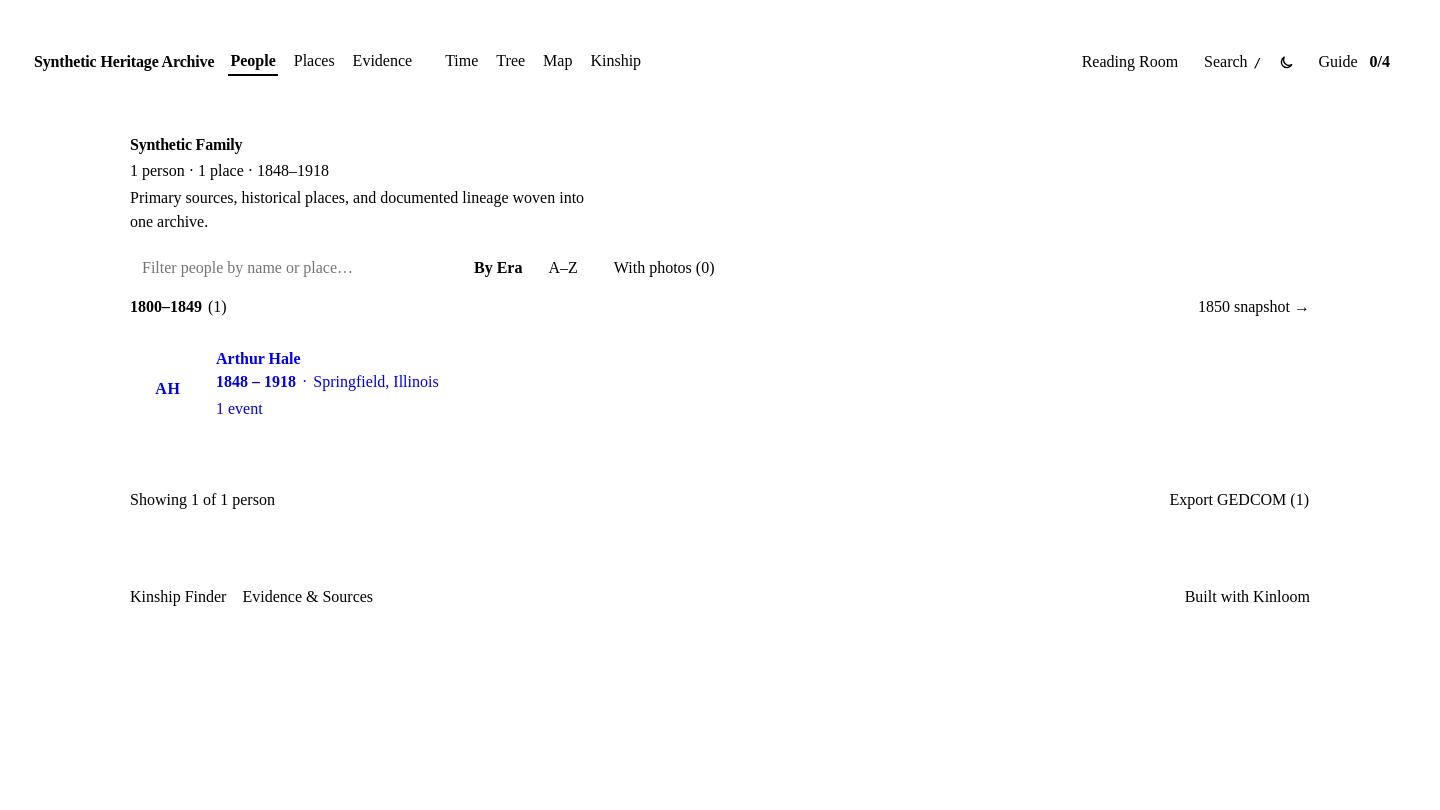
Scenario: OnboardingChecklistCard, Guide menu, persistence, and contextual empty states › renders viewer checklist, persists dismissal in localStorage, reopens via Guide menu, opens shortcuts/guide dialogs, and resets progress
This screenshot has width=1440, height=810.
Earlier steps of the test are not shown.
Later steps or results of the test are not shown.
Click the button "Guide 0/4": (1357, 62) [1308,53,1406,71]
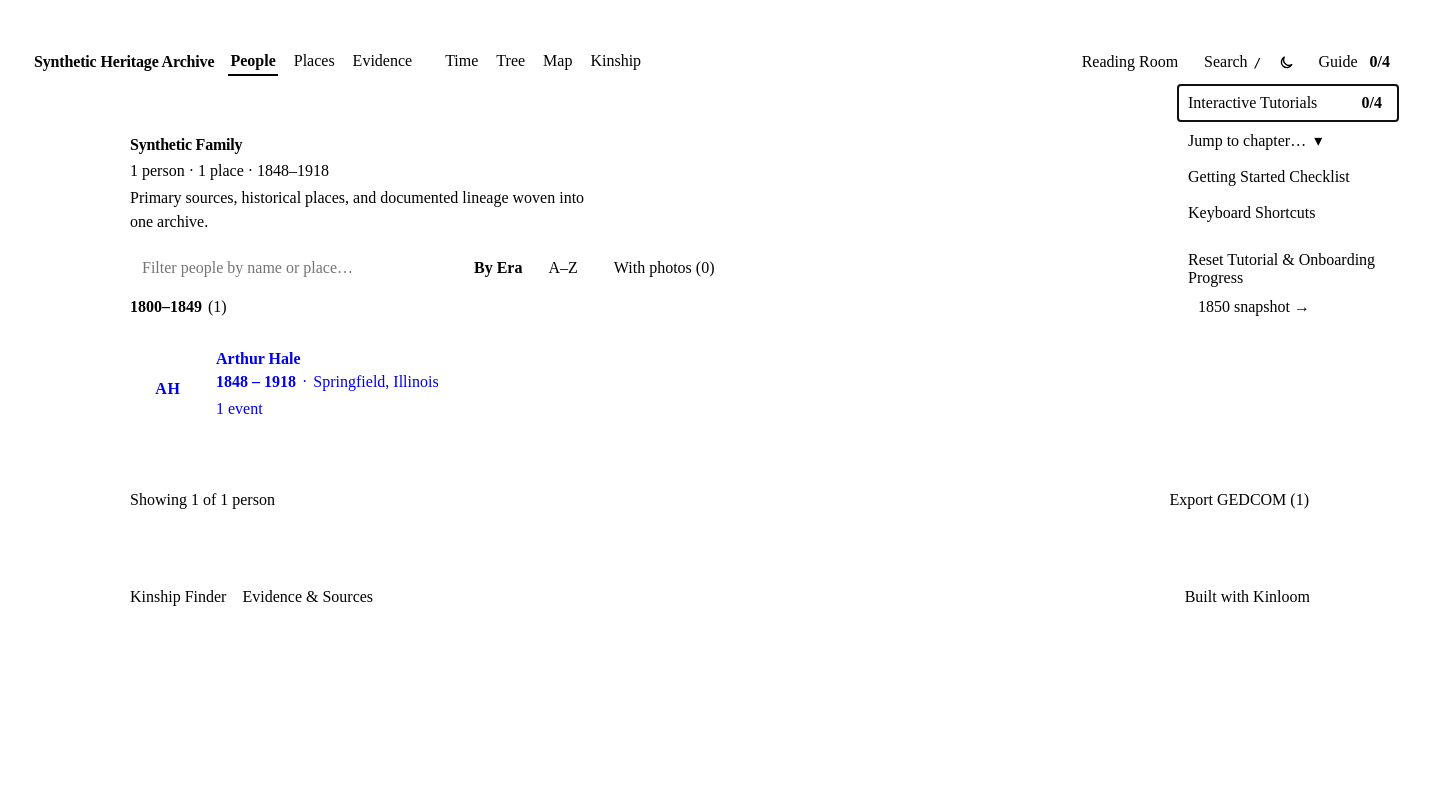
Click the menu item "Getting Started Checklist": (1288, 177) [1178,160,1398,194]
(page scrolled)
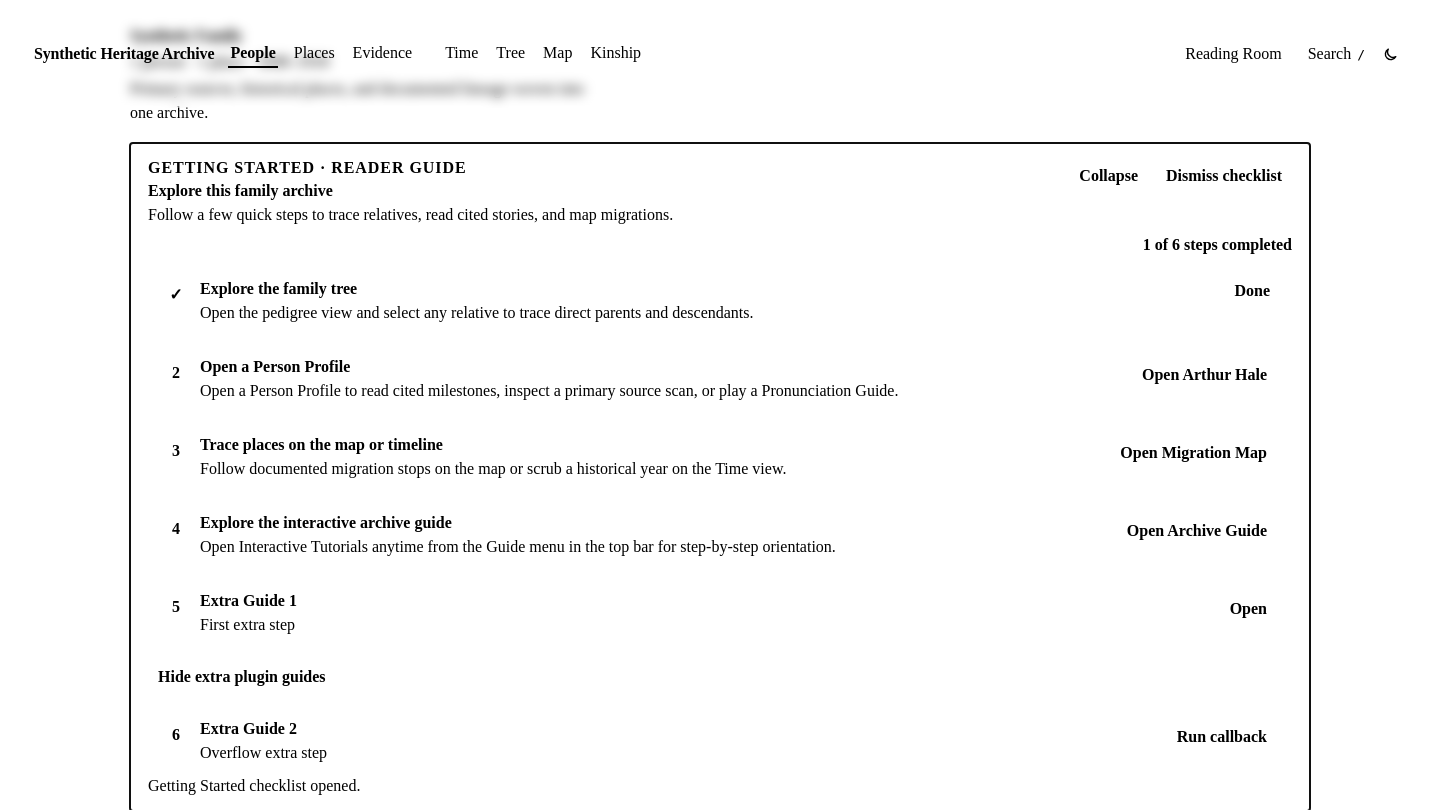
Result: the element with test id "onboarding-checklist-card" shows "Explore this family archive" at [148,182,333,199]
Click the button "Dismiss checklist": (1224, 176) [1156,159,1292,193]
(page scrolled)
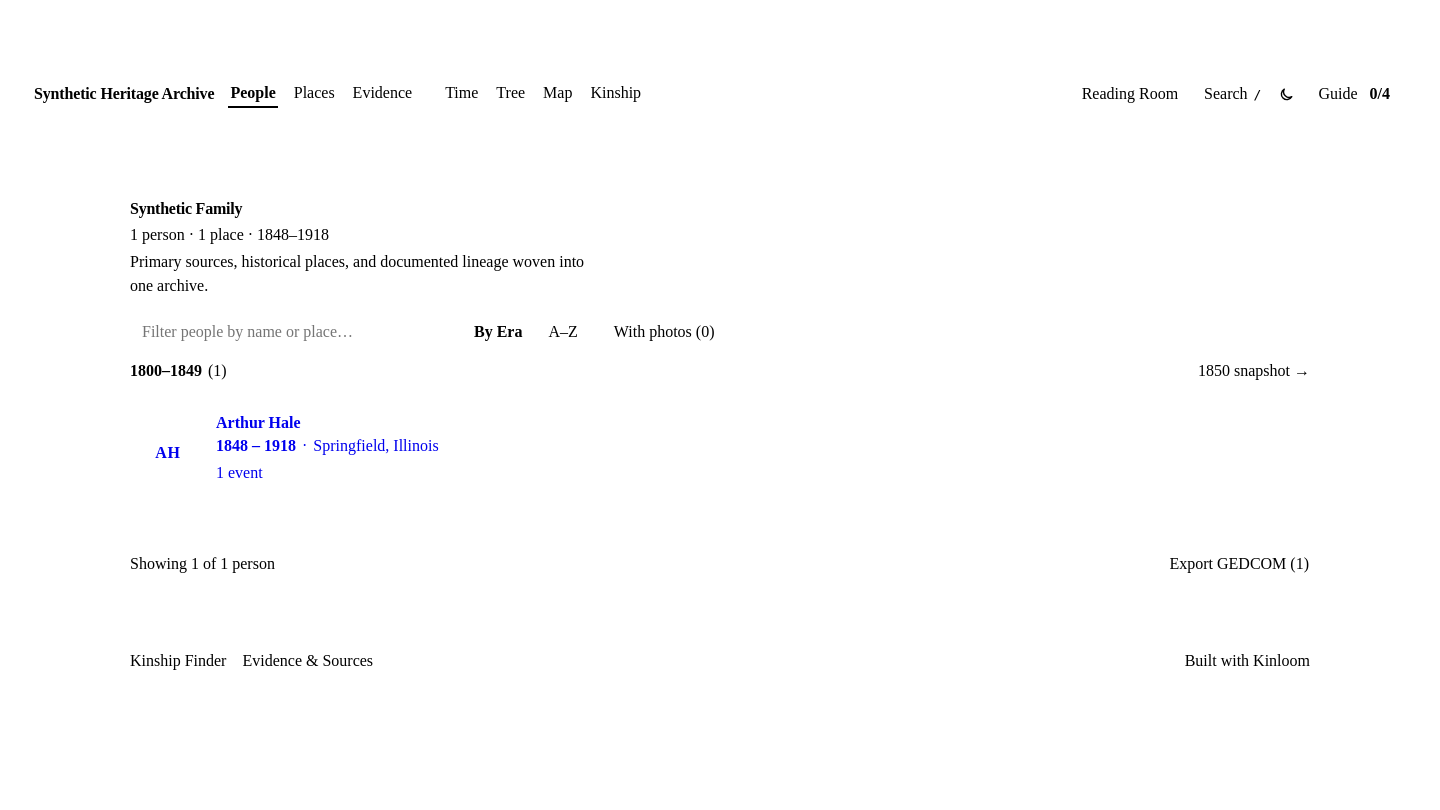
Result: the element with test id "onboarding-checklist-card" is gone
Result: the button "Guide 0/4" is shown
Click the button "Guide 0/4": (1357, 94) [1308,85,1406,103]
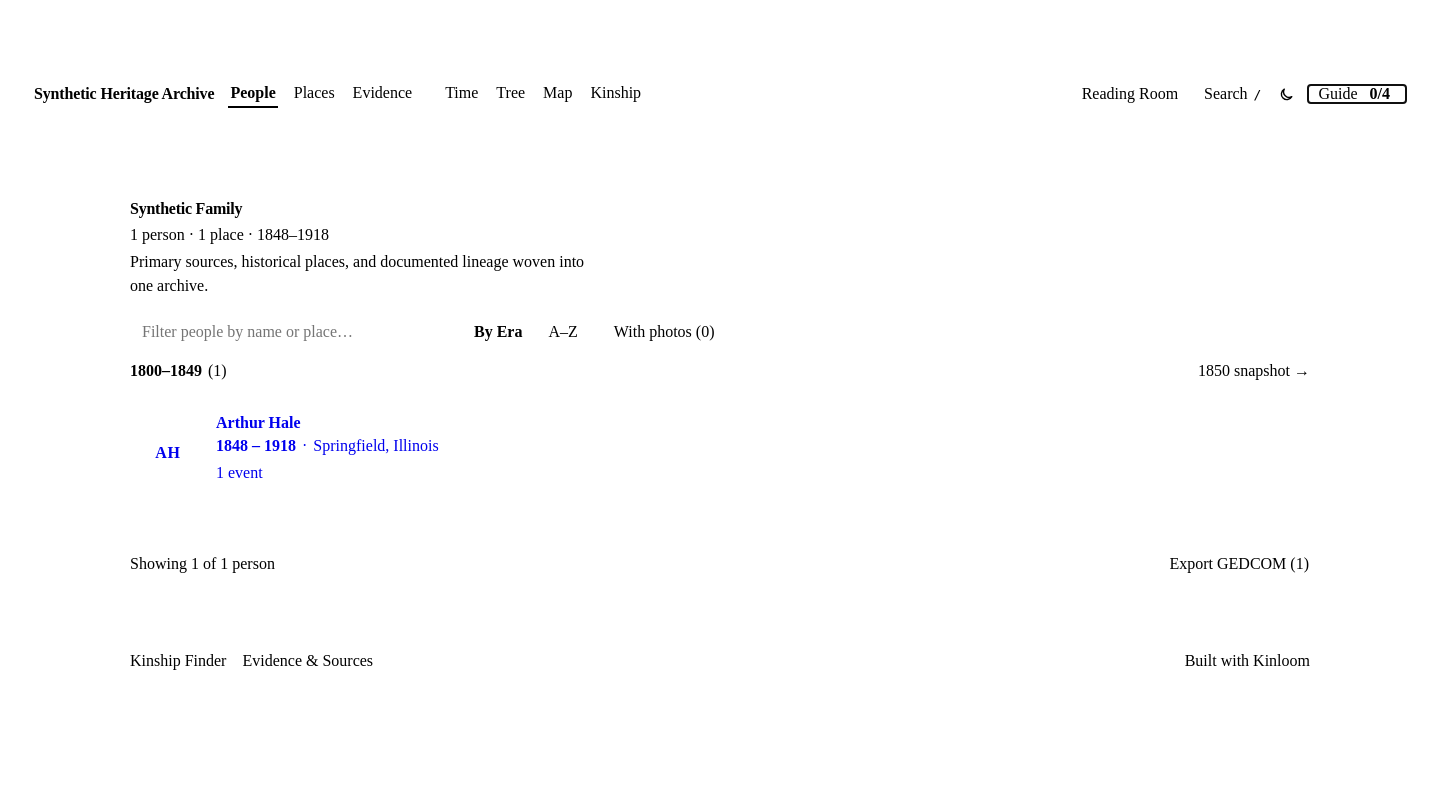
Click the button "Guide 0/4": (1357, 94) [1308,85,1406,103]
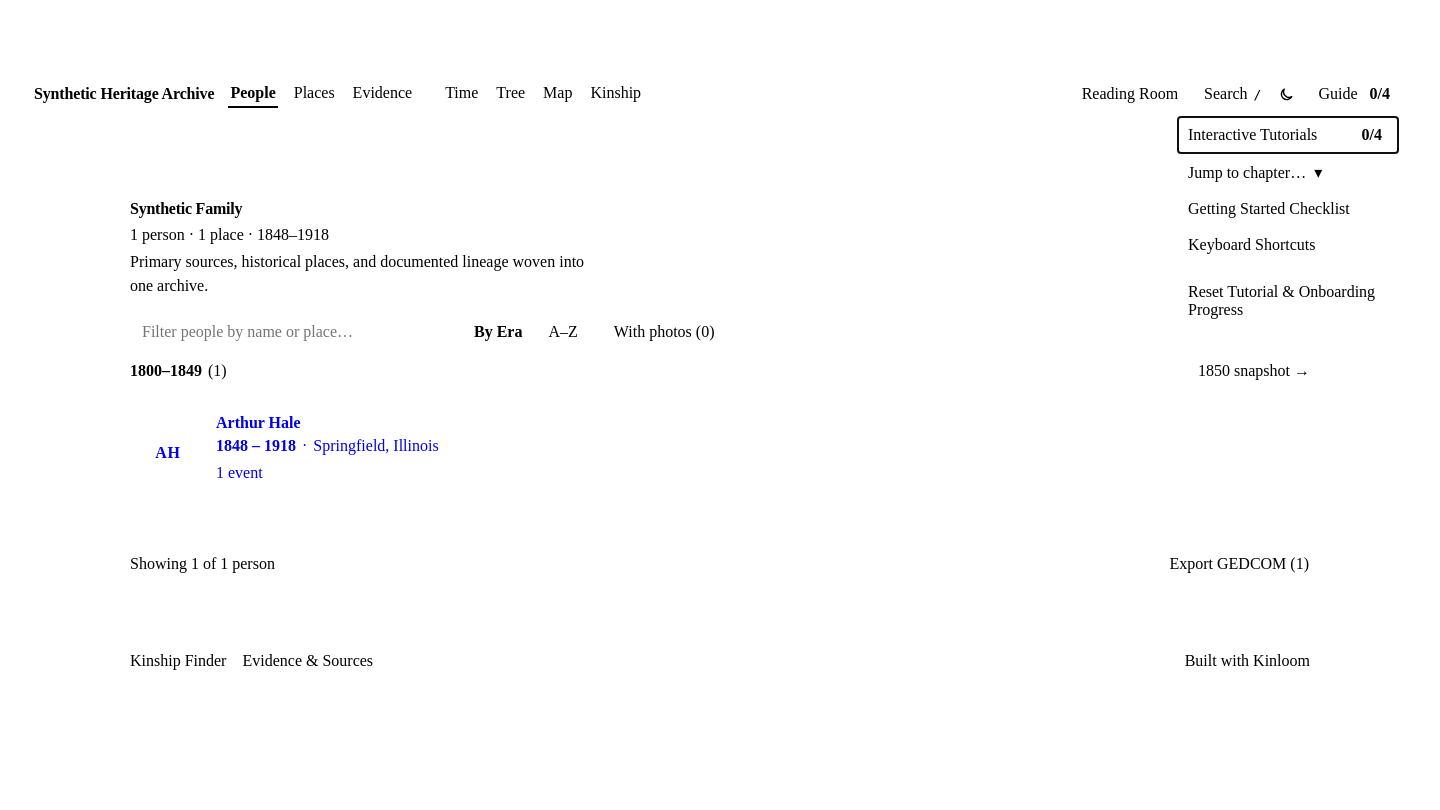
Click the menu item "Getting Started Checklist": (1288, 209) [1178,192,1398,226]
(page scrolled)
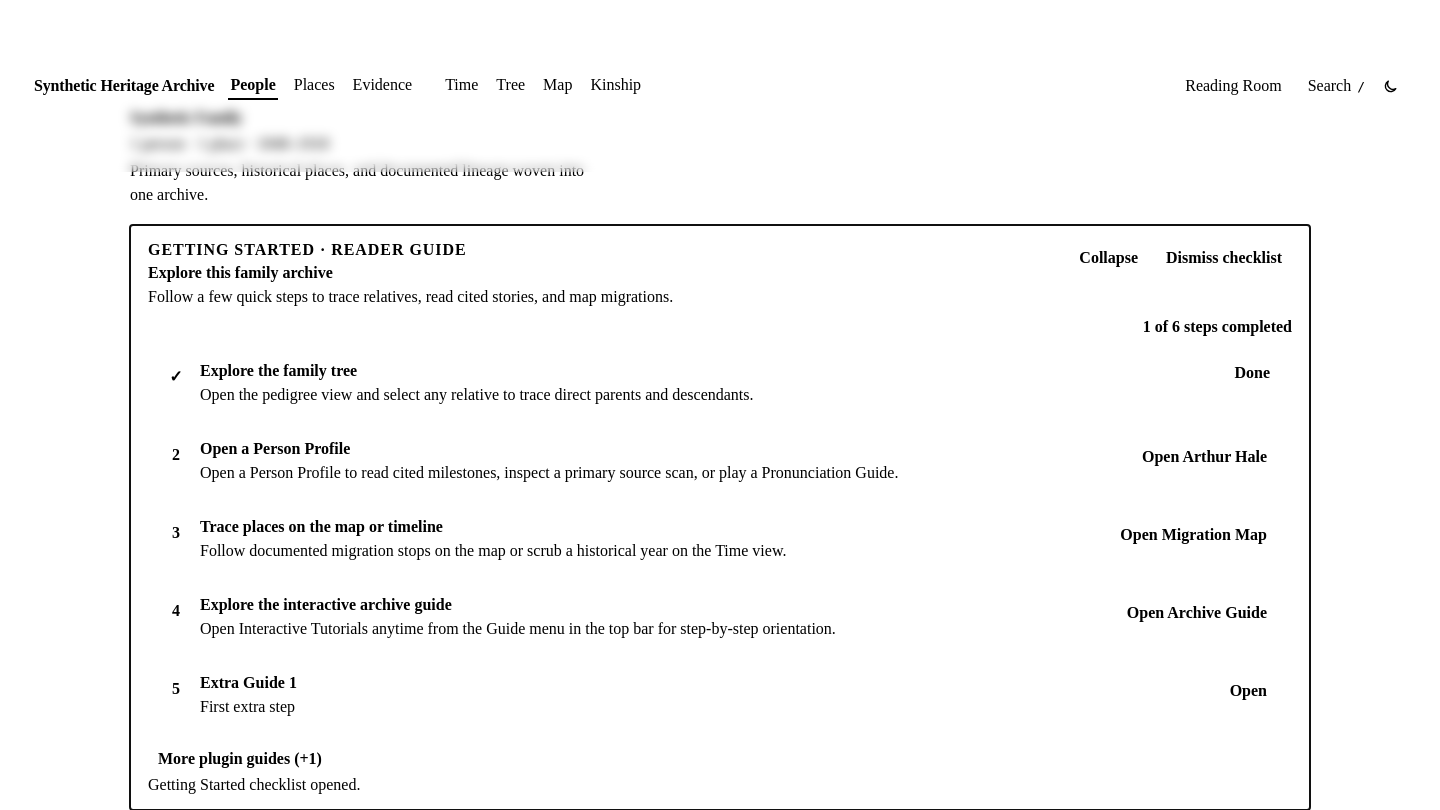
Result: the element with test id "onboarding-checklist-card" is shown at [130,225,1310,809]
Result: the element with test id "onboarding-checklist-card" shows "Explore this family archive" at [148,264,333,281]
